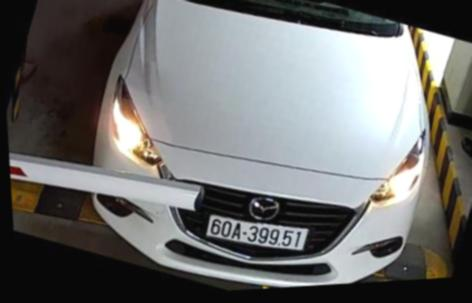License_Plate: (206, 204, 312, 258)
